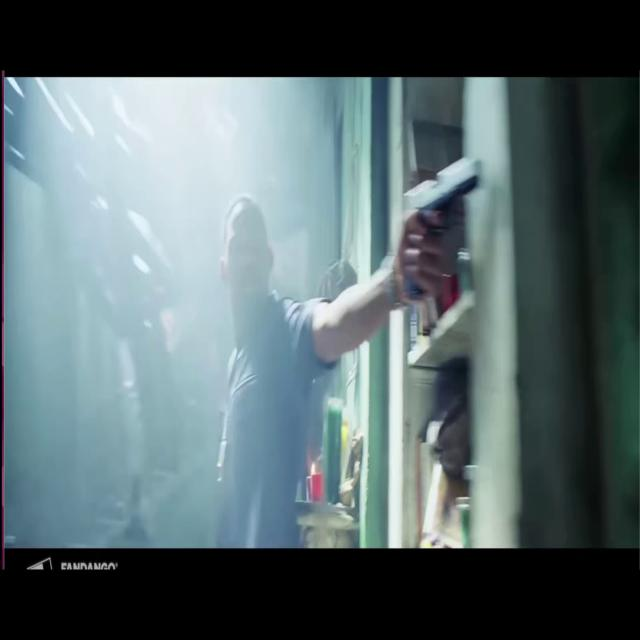weapons: (395, 138, 493, 322)
